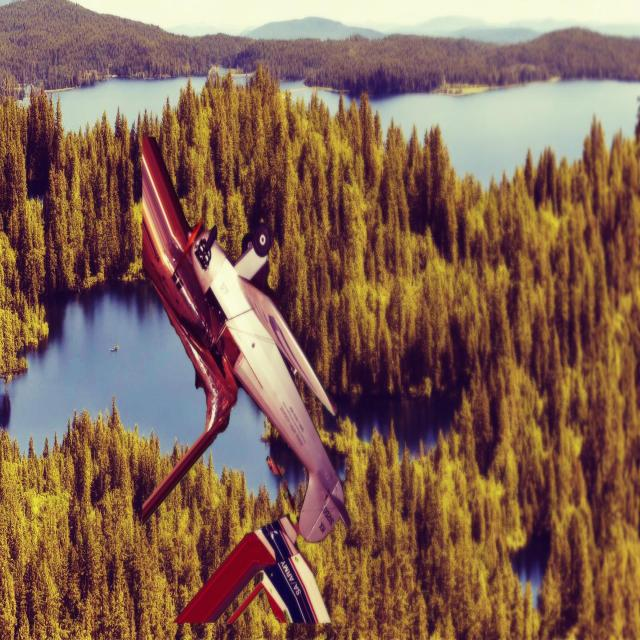airplane: (139, 133, 351, 544), (174, 513, 332, 627)
